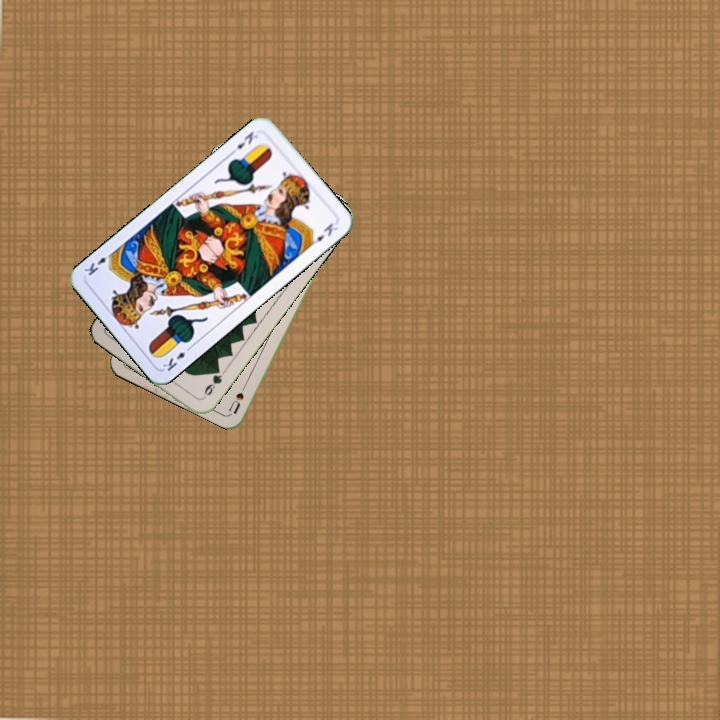EK: (159, 342, 195, 374), (226, 127, 261, 158)
G9: (198, 364, 225, 402)
SU: (225, 376, 251, 416)
